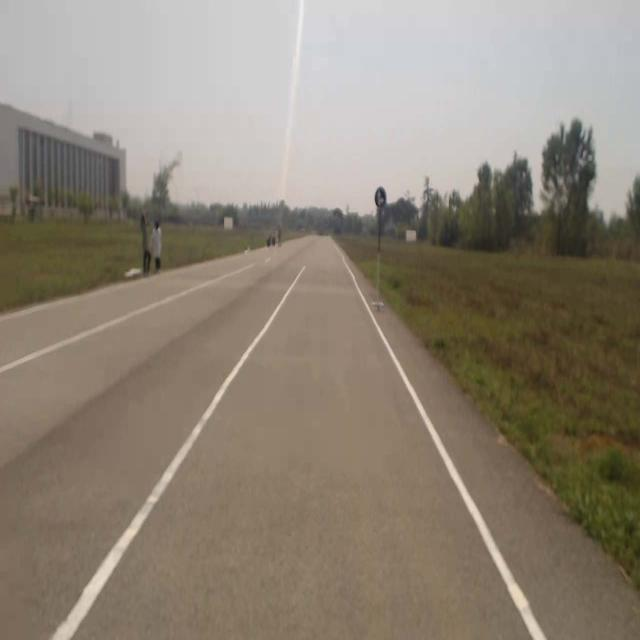ilerisag: (376, 188, 386, 207)
